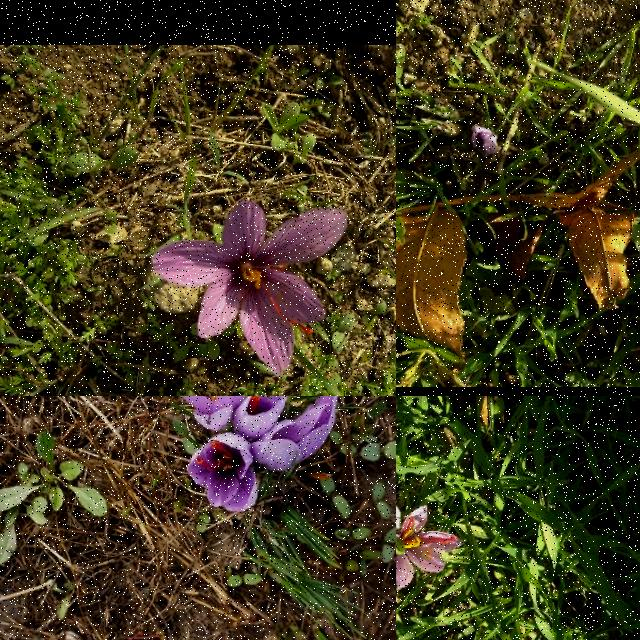flower: (152, 204, 348, 378), (249, 396, 338, 471), (396, 500, 462, 592), (187, 433, 259, 512), (168, 396, 253, 431), (231, 396, 288, 440), (471, 124, 501, 156)
